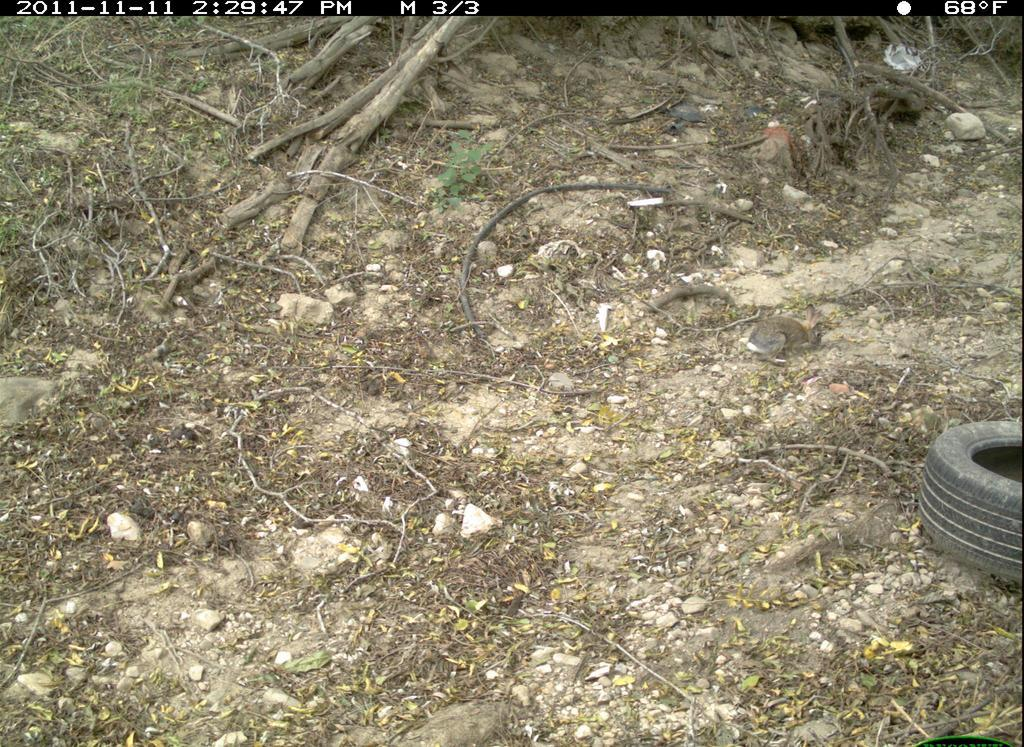rabbit: (734, 300, 841, 372)
